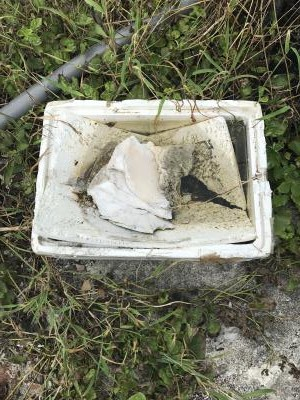styrofoam: (29, 95, 276, 265)
